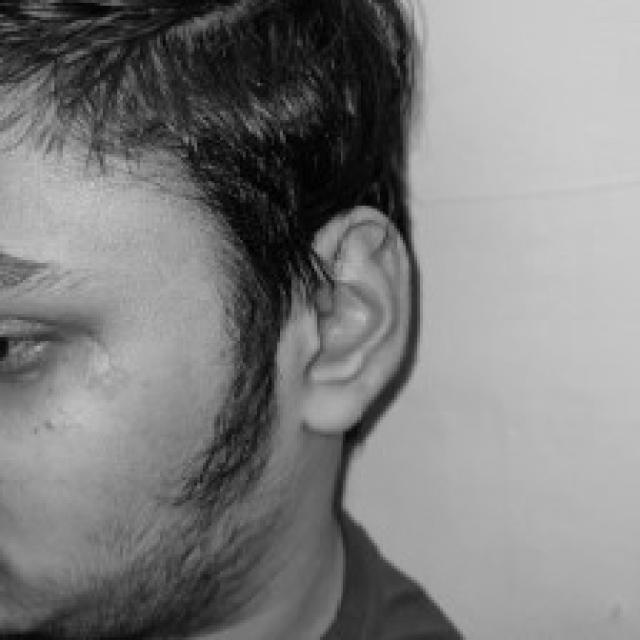ear: (300, 206, 406, 431)
